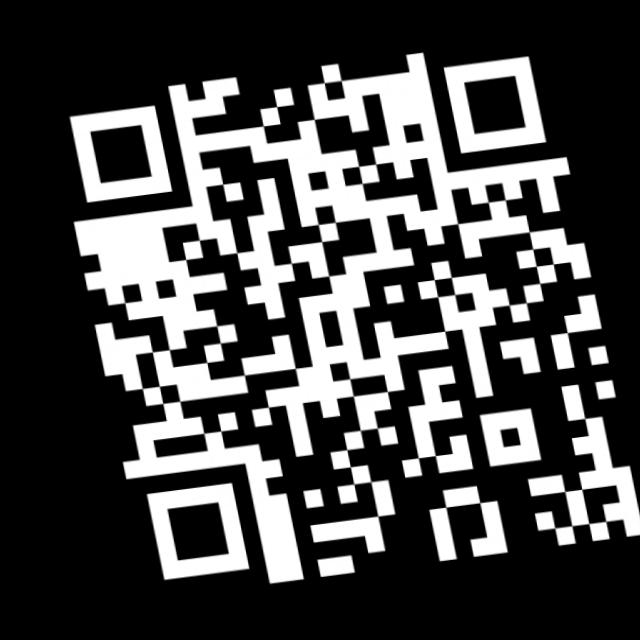QR_CODE: (14, 12, 640, 624)
